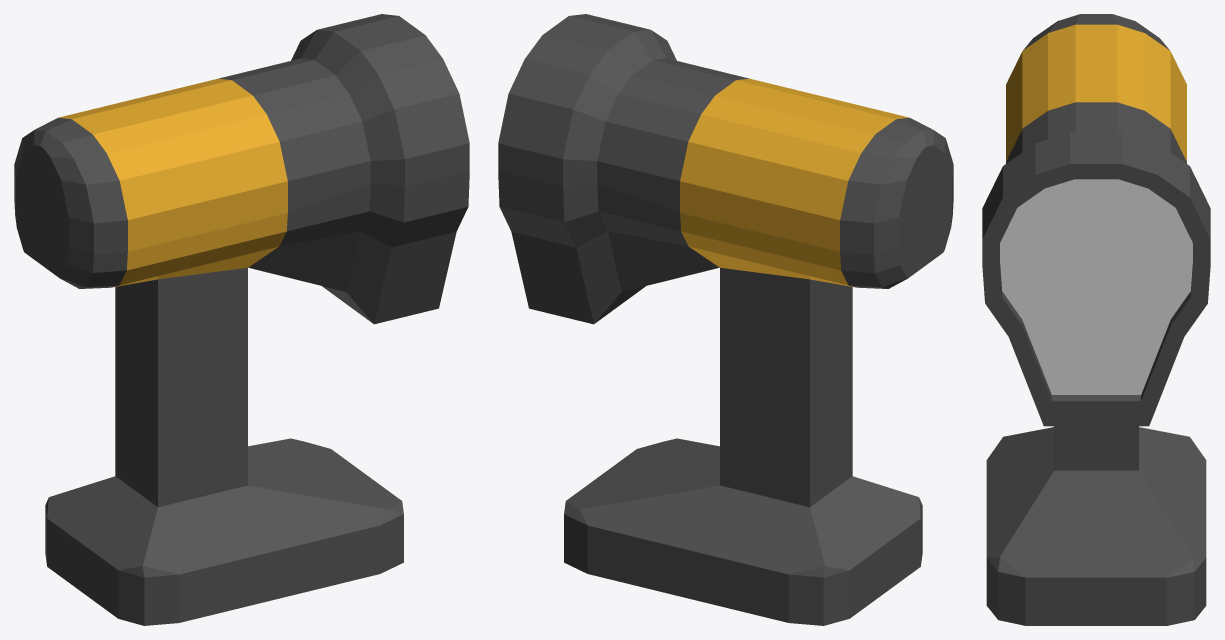
3 renders of one model, left to right at view 1: azimuth 30°, elevation 25°; view 2: azimuth 150°, elevation 25°; view 3: azimuth 270°, elevation 25°, orthographic.
Parts seen in each view (by area): view 1: F-42; view 2: F-42; view 3: F-42.
Boxes of the visible parts, x1,y1,x2,y2 form: F-42: (14, 14, 469, 625); F-42: (498, 14, 953, 625); F-42: (982, 14, 1210, 625).
Size of the model in its own units: 47.48 by 59.65 by 25.47.
